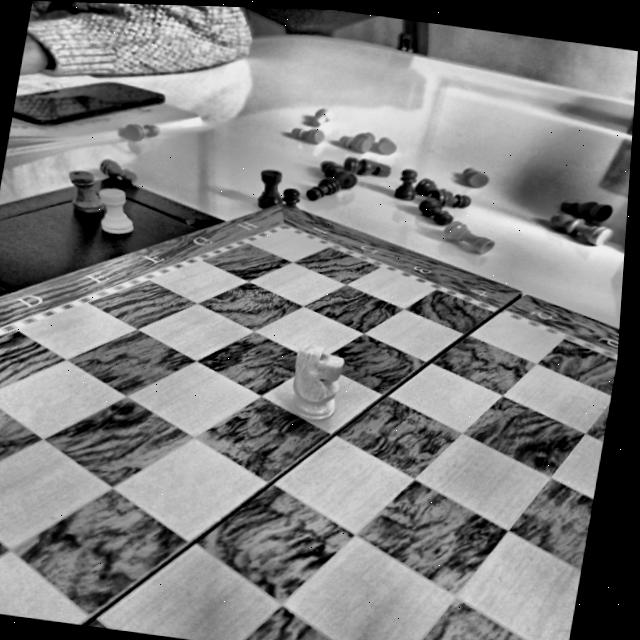white-knight: (252, 336, 361, 441)
